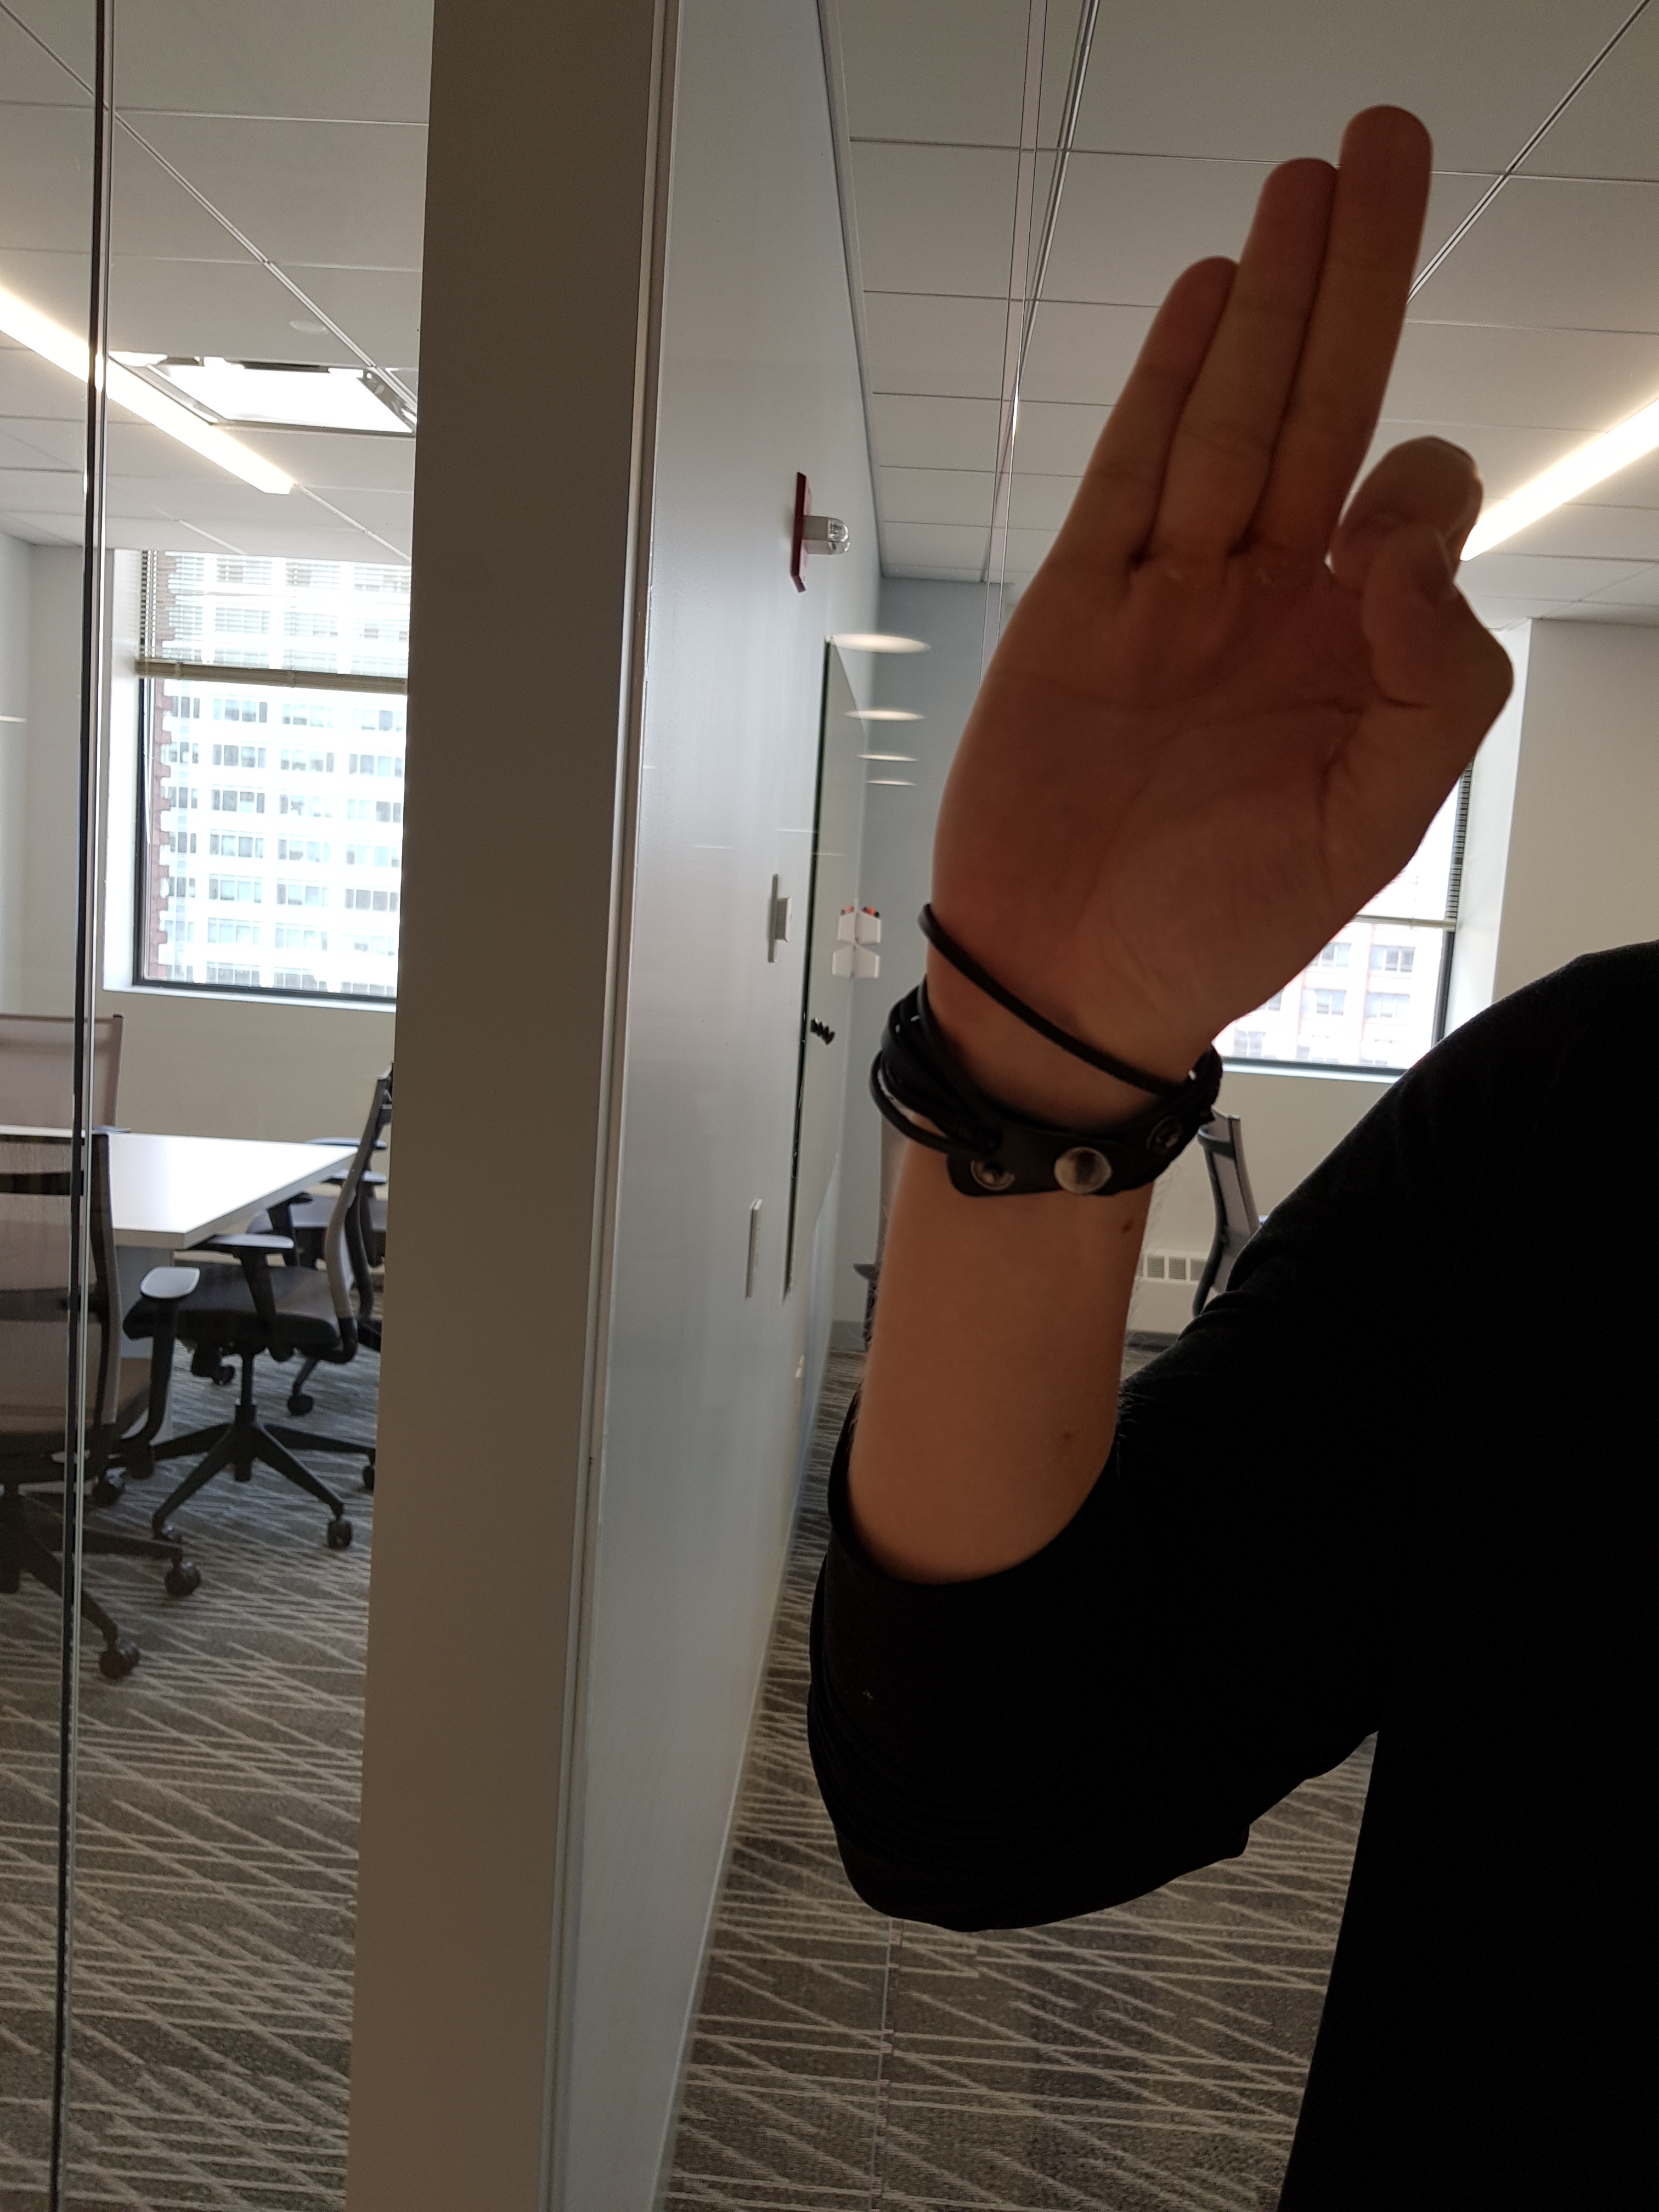f: (917, 75, 1535, 1115)
